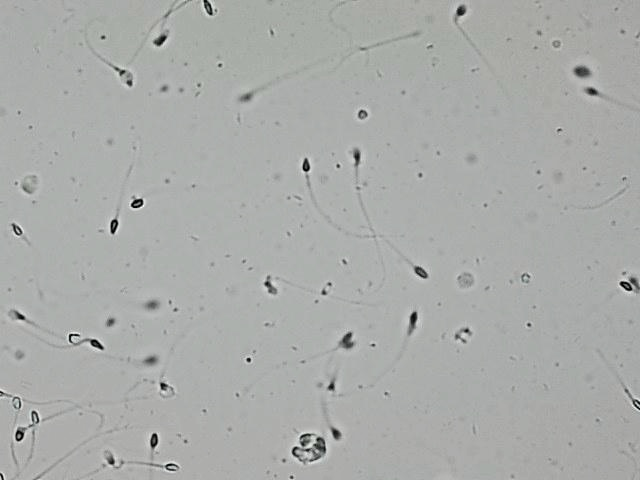sperm: (249, 116, 353, 198), (180, 296, 296, 366), (287, 266, 375, 354), (194, 35, 282, 81), (212, 257, 312, 289), (56, 0, 108, 54), (576, 316, 618, 380), (94, 100, 122, 190), (0, 381, 52, 423), (340, 106, 364, 192), (142, 298, 174, 360), (359, 218, 406, 260), (431, 0, 475, 41), (10, 377, 30, 441), (0, 292, 36, 325), (560, 74, 608, 98), (308, 374, 332, 420), (1, 361, 15, 431), (112, 173, 148, 197), (316, 341, 336, 377), (49, 324, 87, 342), (75, 348, 131, 360), (138, 0, 166, 24), (0, 209, 22, 235), (98, 456, 152, 466), (89, 438, 113, 460), (0, 382, 29, 398), (562, 56, 582, 72), (144, 416, 154, 448), (608, 272, 628, 288), (128, 294, 148, 306), (622, 270, 634, 284), (196, 0, 208, 8)
